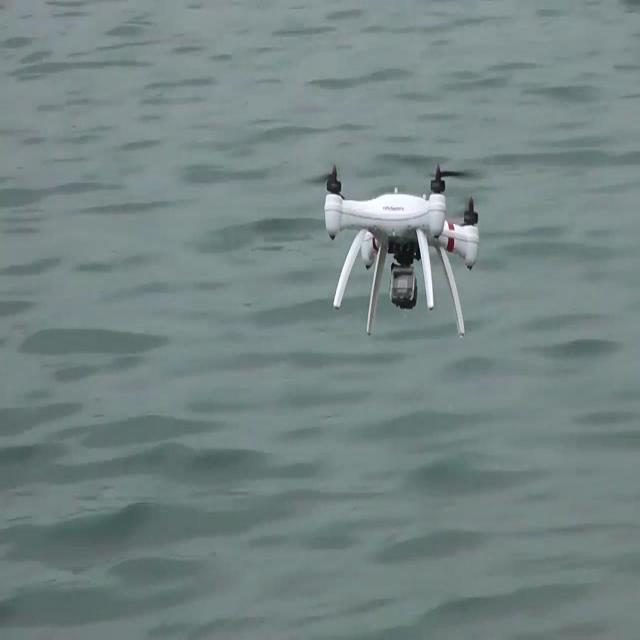UAV: (316, 167, 481, 341)
